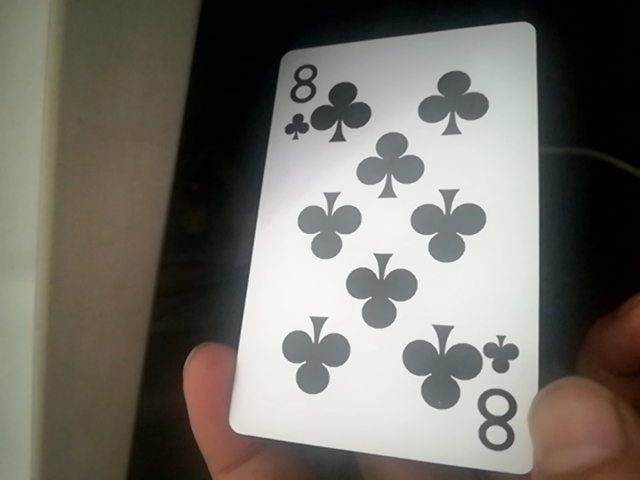mh 8: (227, 32, 544, 480)
